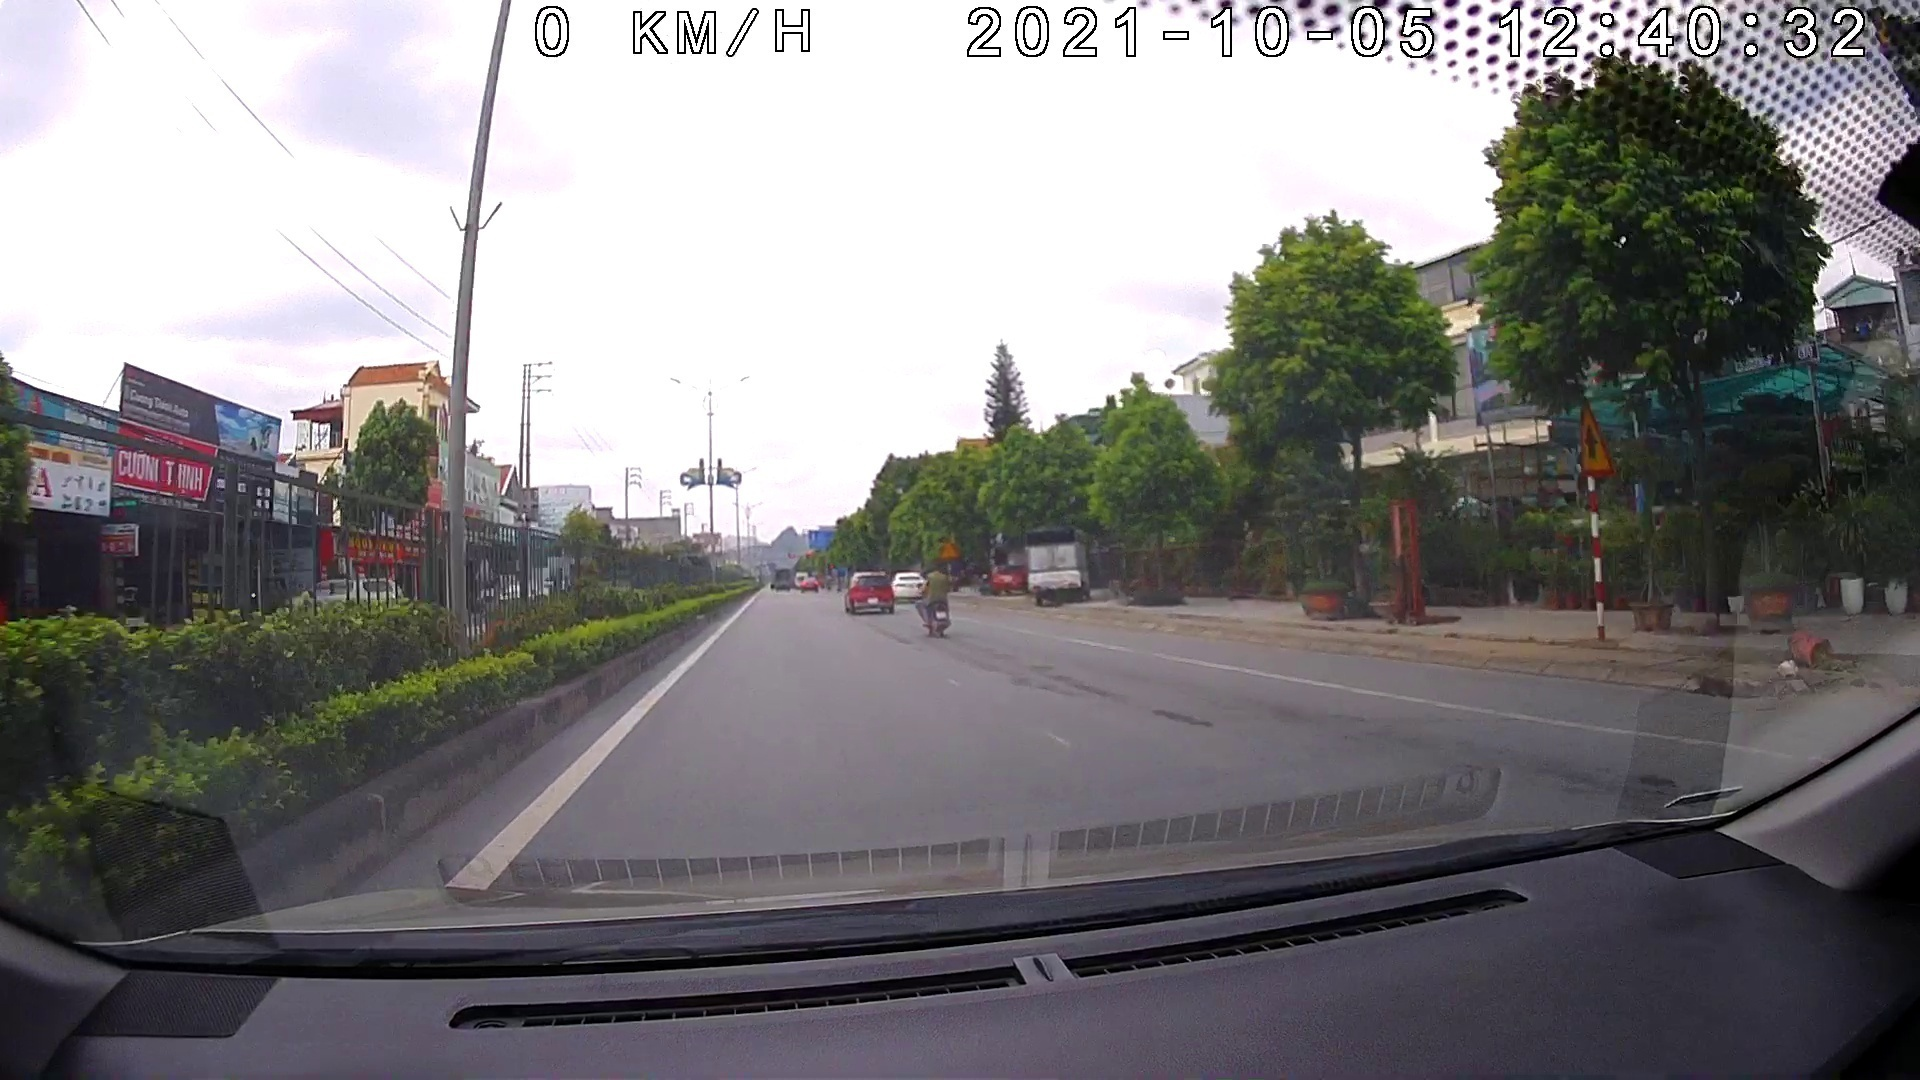Giao nhau voi duong khong uu tien: (1571, 397, 1621, 479)
